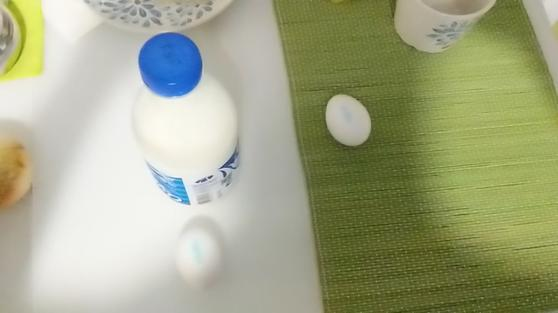egg: (172, 219, 225, 292), (317, 91, 375, 146)
milk: (115, 22, 249, 214)
